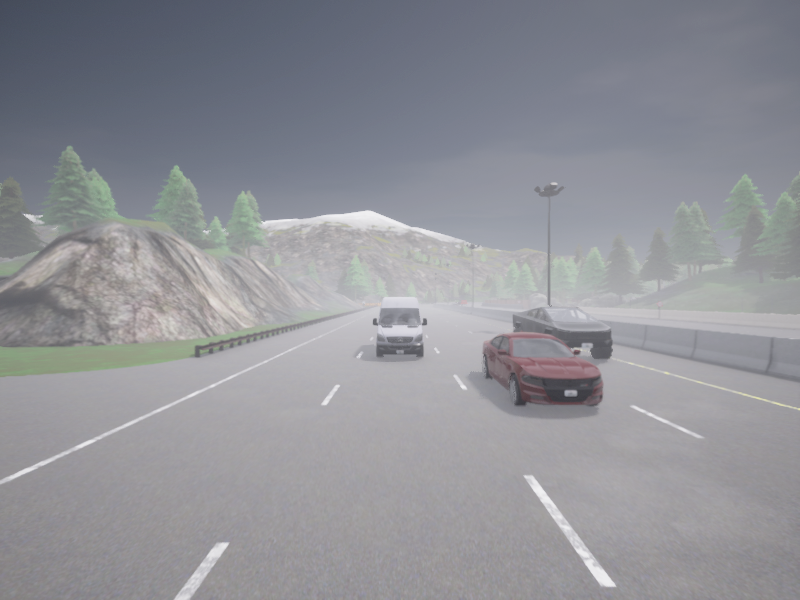vehicle: (482, 330, 602, 405), (512, 307, 611, 359), (372, 297, 426, 358), (461, 300, 466, 305), (451, 303, 457, 305), (458, 301, 460, 304)
